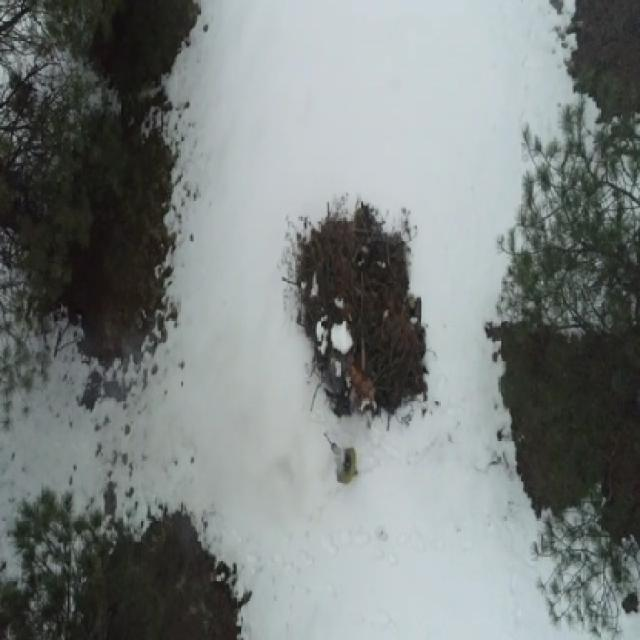Fire: (349, 362, 372, 402)
